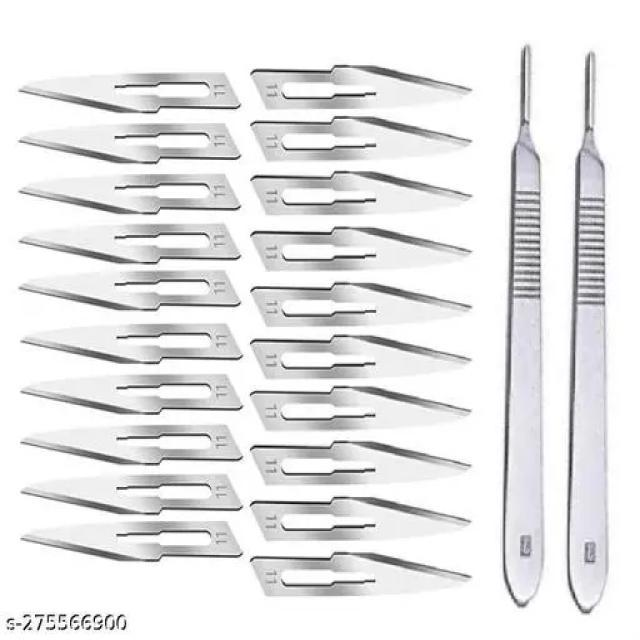Knife handle: (562, 40, 618, 620), (500, 34, 551, 614)
Surgical blade: (11, 60, 246, 116), (243, 548, 487, 600), (248, 223, 484, 276), (248, 117, 492, 167), (249, 332, 483, 384), (250, 438, 488, 489), (249, 282, 489, 332), (249, 386, 483, 437), (249, 492, 477, 544), (249, 62, 476, 114), (249, 172, 493, 218), (19, 320, 248, 369), (18, 422, 257, 468), (12, 121, 241, 169), (19, 469, 247, 516), (16, 517, 242, 564), (11, 222, 247, 266), (14, 172, 249, 216), (13, 268, 246, 312), (19, 378, 244, 420)
